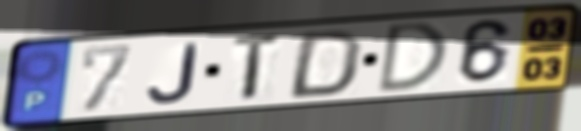6: (453, 18, 515, 86)
7: (77, 42, 134, 115)
D: (283, 27, 368, 101), (373, 19, 452, 97)
J: (144, 41, 202, 106)
T: (229, 30, 286, 105)
